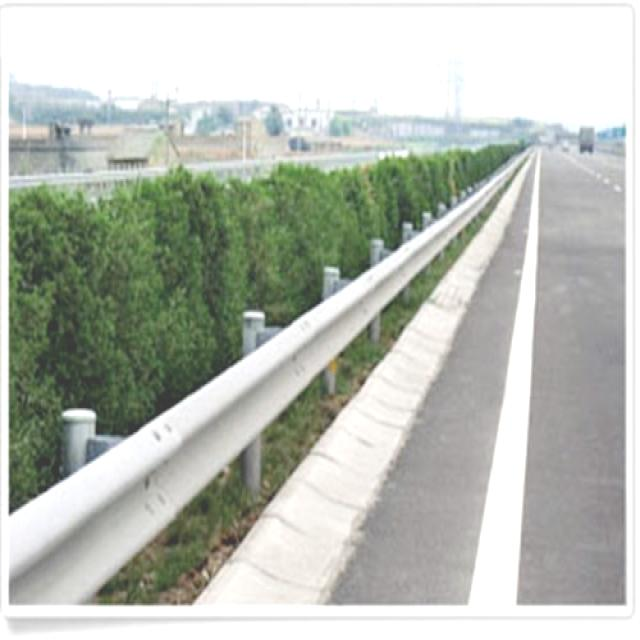Guard rail: (9, 152, 529, 603)
